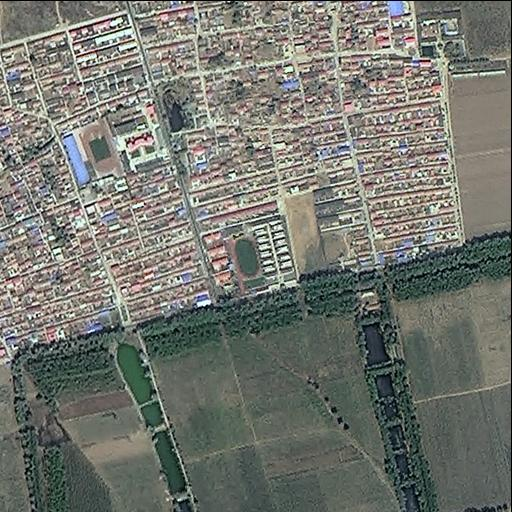school: (226, 216, 298, 301), (63, 115, 126, 187)
